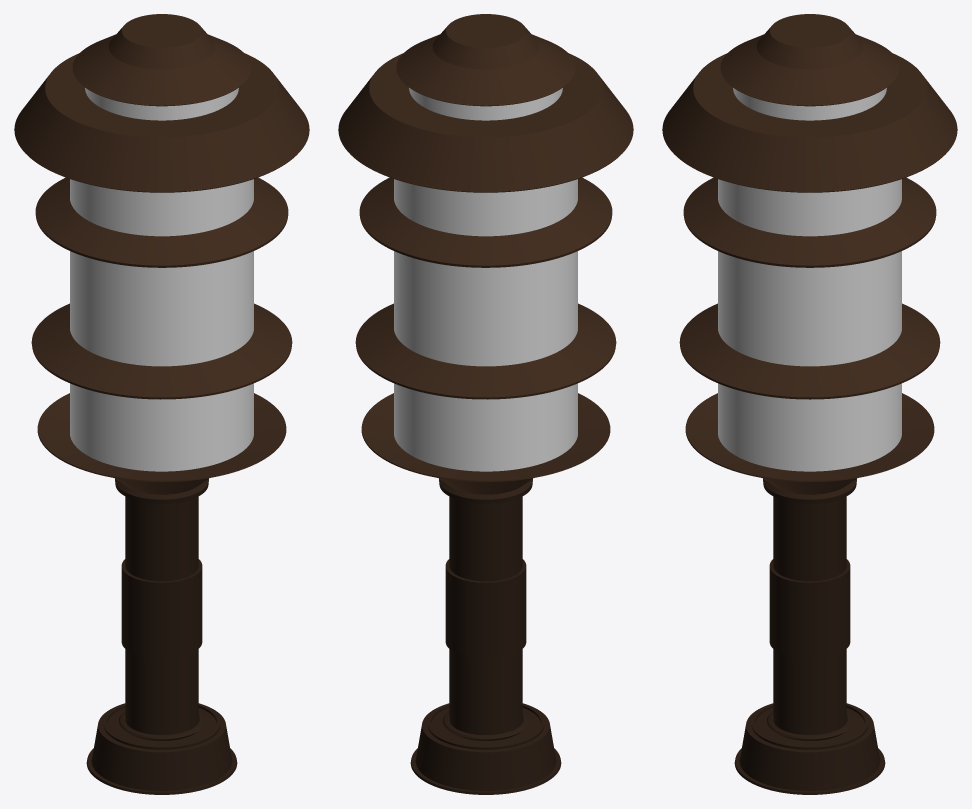
Rendered from PathLight.fbx.
3 renders of one model, left to right at view 1: azimuth 30°, elevation 25°; view 2: azimuth 150°, elevation 25°; view 3: azimuth 270°, elevation 25°, orthographic.
Parts seen in each view (by area): view 1: GroundLight1.002; view 2: GroundLight1.002; view 3: GroundLight1.002.
Boxes of the visible parts, x1,y1,x2,y2 form: GroundLight1.002: (14,14,309,794); GroundLight1.002: (338,14,633,794); GroundLight1.002: (662,14,957,794).
Size of the model in its own units: 127 by 348 by 127.
